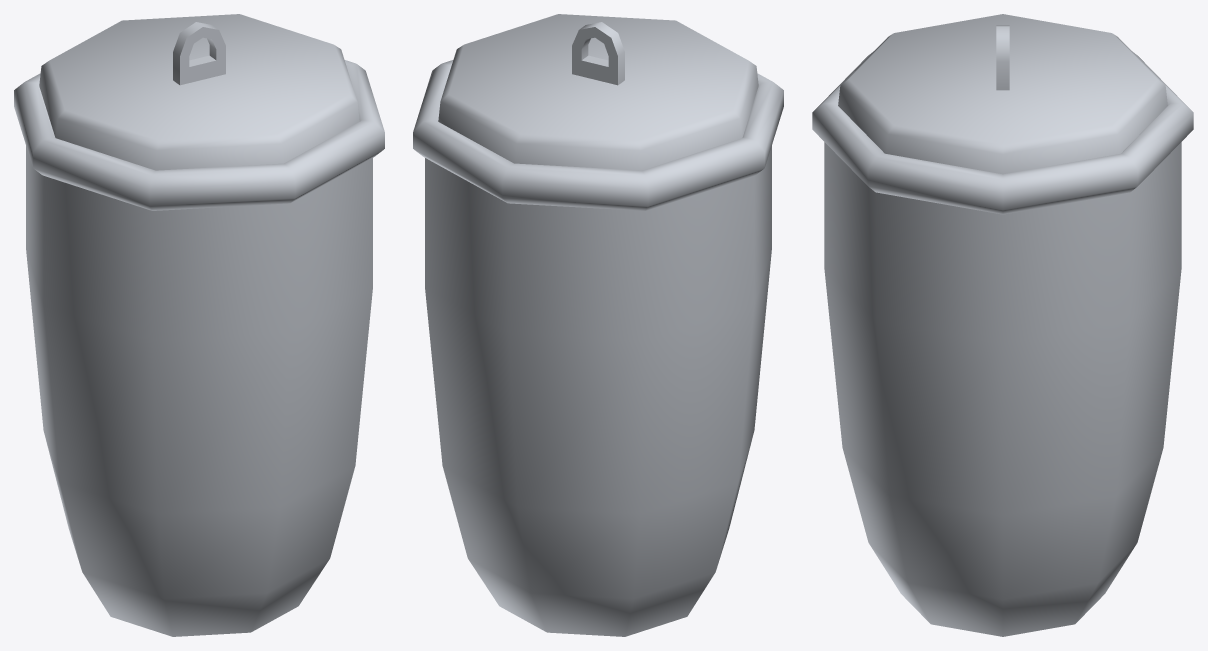
Rendered from heating_equipment_crucible.glb.
3 renders of one model, left to right at view 1: azimuth 30°, elevation 25°; view 2: azimuth 150°, elevation 25°; view 3: azimuth 270°, elevation 25°, orthographic.
Visible parts, largest first — view 1: heating_equipment_crucible, heating_equipment_crucible_lid; view 2: heating_equipment_crucible, heating_equipment_crucible_lid; view 3: heating_equipment_crucible, heating_equipment_crucible_lid.
Part boxes in pixels (x1,y1,x2,y2): heating_equipment_crucible: (14,60,384,636); heating_equipment_crucible_lid: (39,14,359,170); heating_equipment_crucible: (413,60,783,636); heating_equipment_crucible_lid: (438,14,758,170); heating_equipment_crucible: (812,51,1193,636); heating_equipment_crucible_lid: (838,14,1167,174).
Bounding box in the file's own units: 14.95 × 24.63 × 14.95.
Materials: 1 (1 with a texture image).
